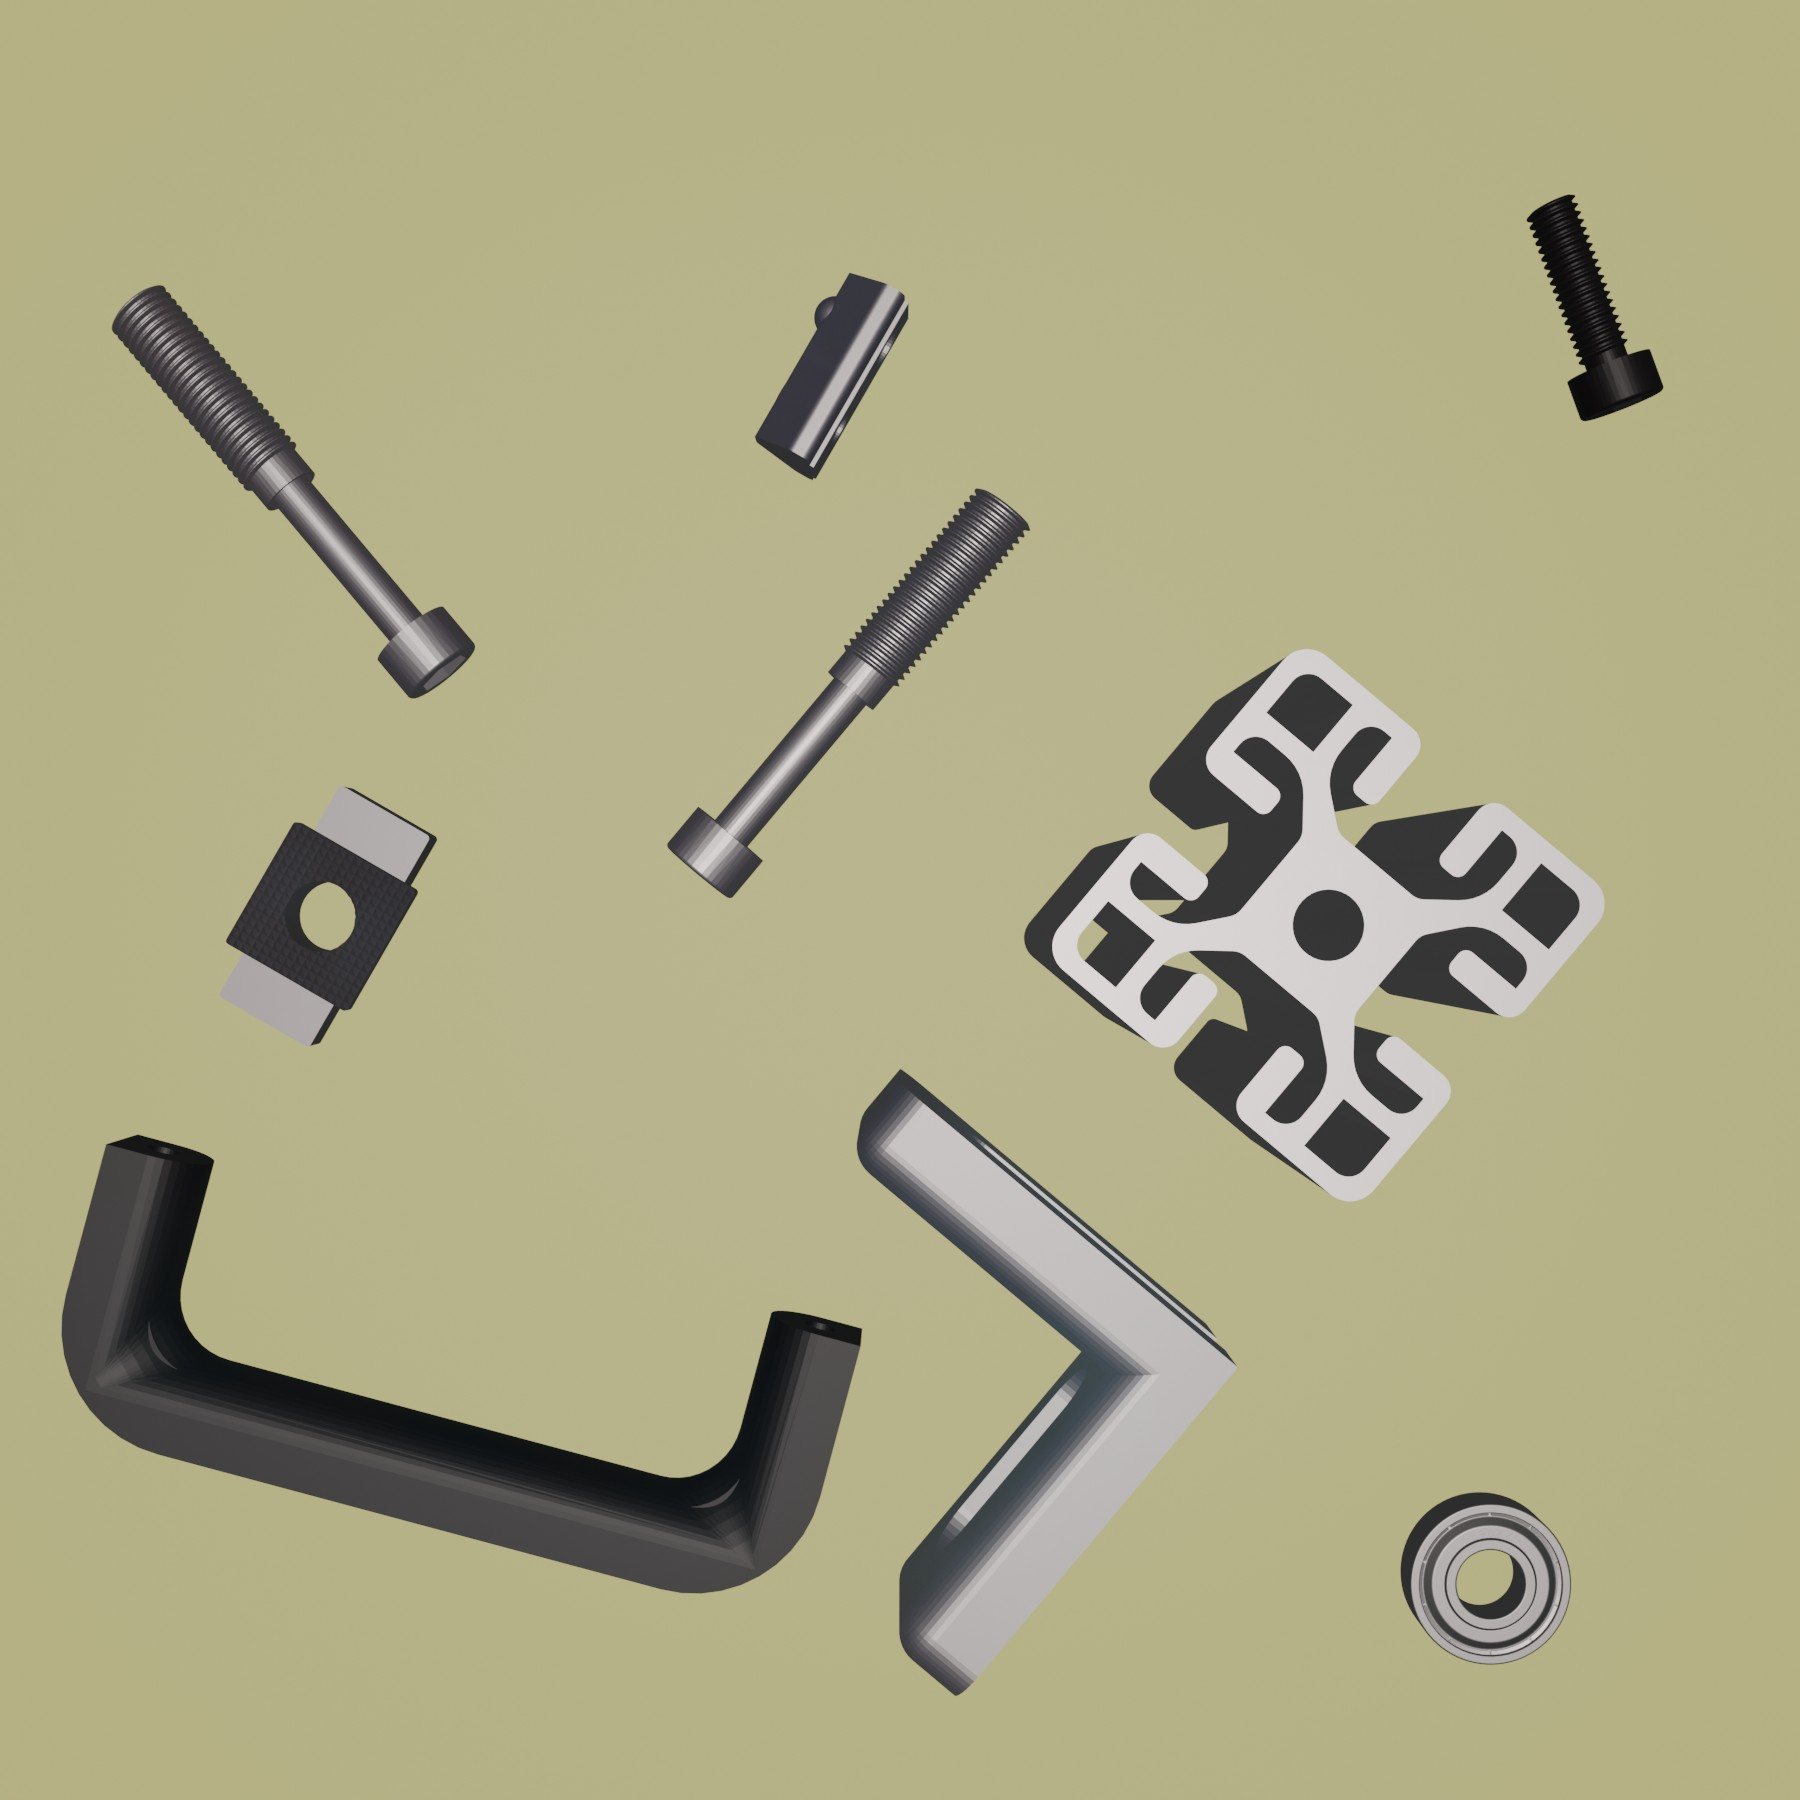Aluminium Extension: (1024, 648, 1609, 1205)
Ball Bearing: (1396, 1492, 1573, 1668)
Multiwinkel: (854, 1066, 1241, 1698)
Pull Handle: (59, 1131, 862, 1596)
Shoulder Socket Head Cap Screw: (109, 282, 475, 701), (666, 481, 1029, 902)
Socket Head Cap Screw: (1525, 191, 1670, 424)
T Nut Square: (216, 781, 438, 1050)
T Spring Nut: (753, 269, 913, 481)
